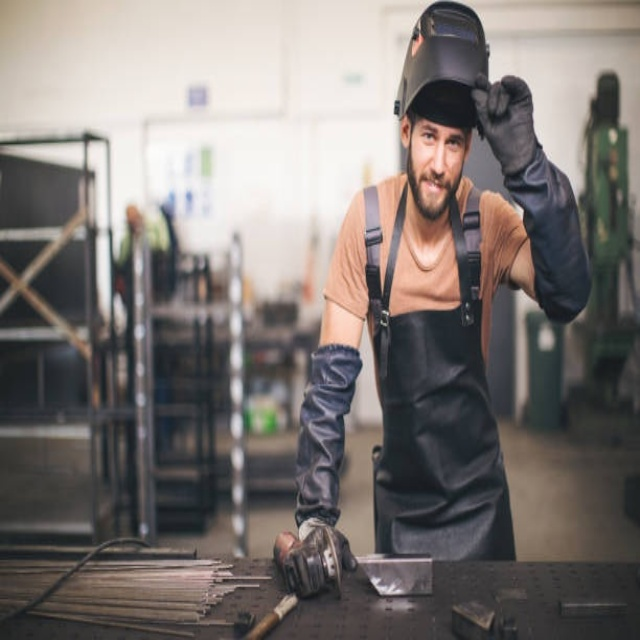Guantes: (470, 64, 540, 171)
Sin_gafas: (416, 124, 463, 160)
Sin_mascara: (417, 173, 451, 209)
